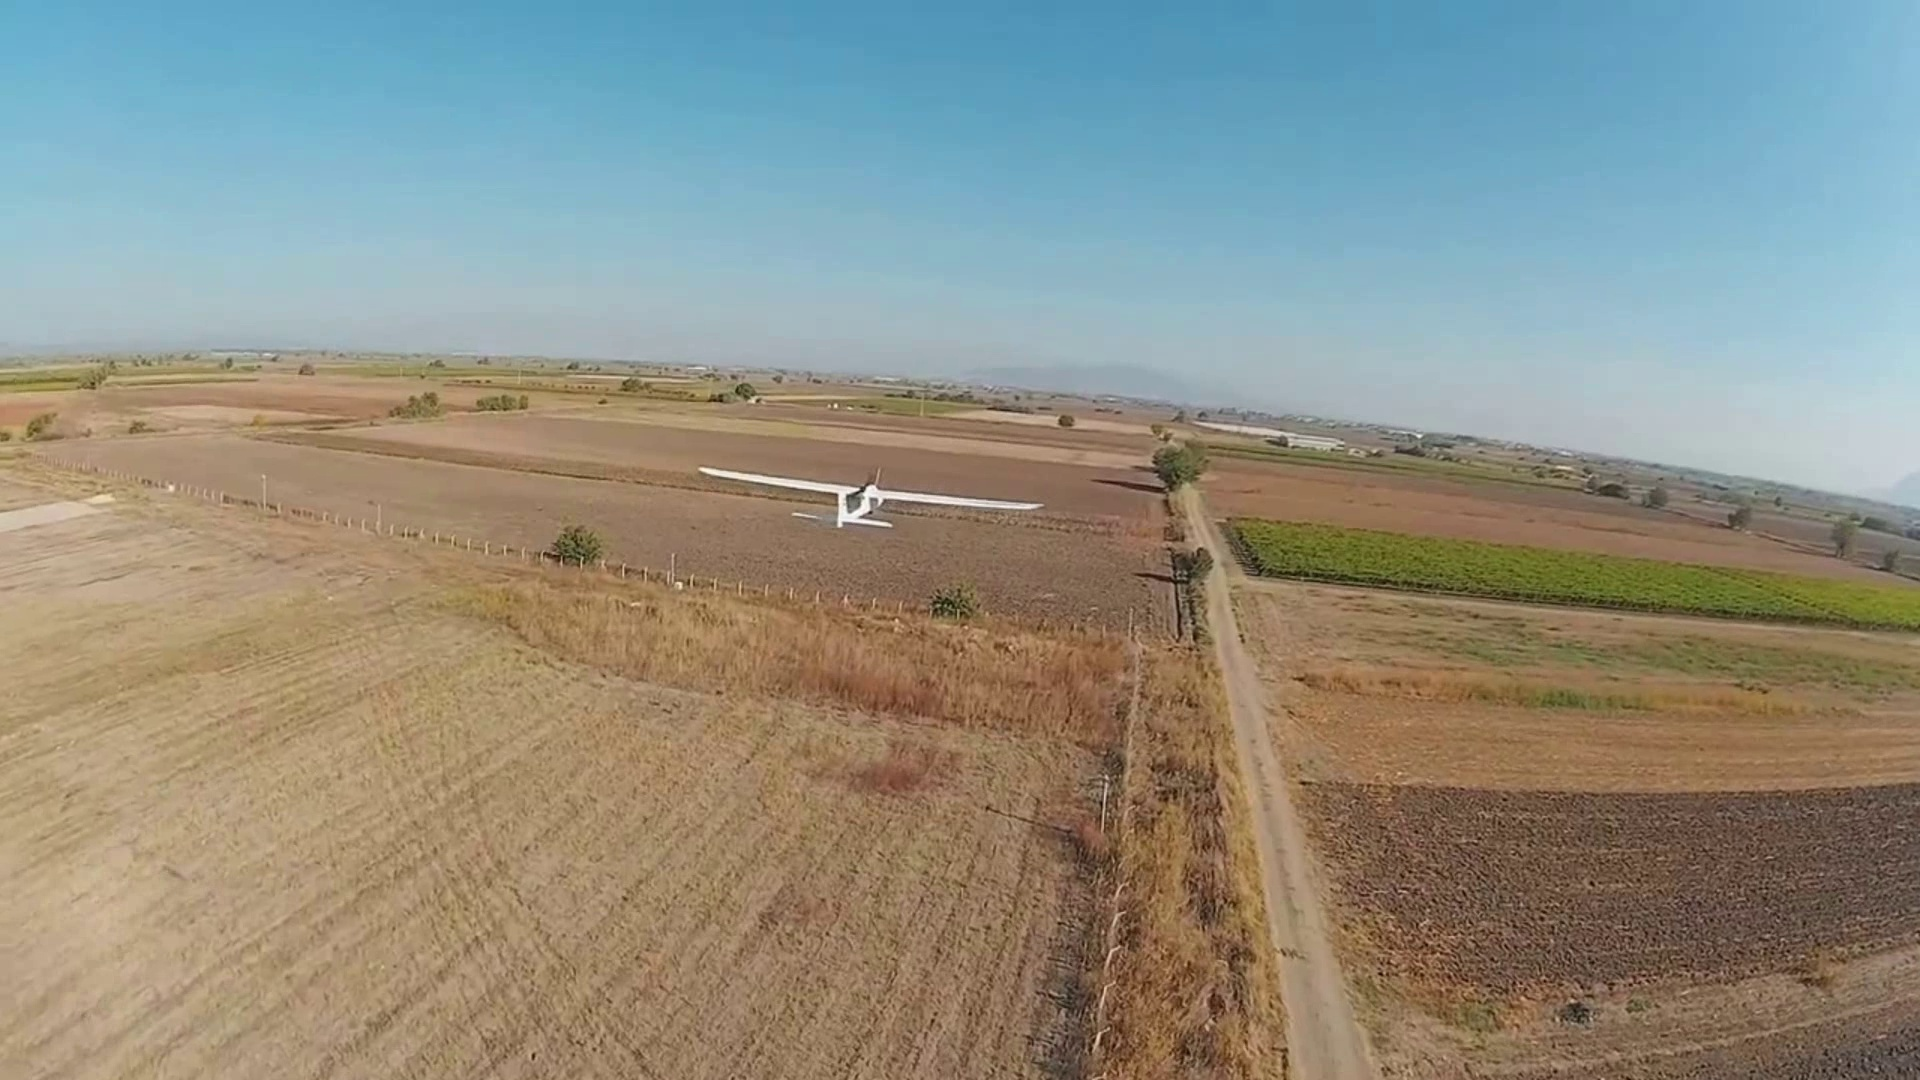airplane: (695, 464, 1047, 529)
